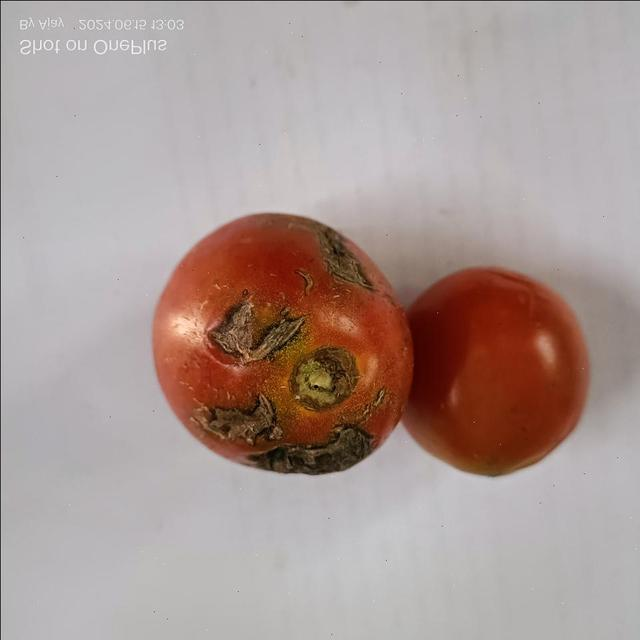Bacterial Spot Fruit: (10, 9, 252, 305)
